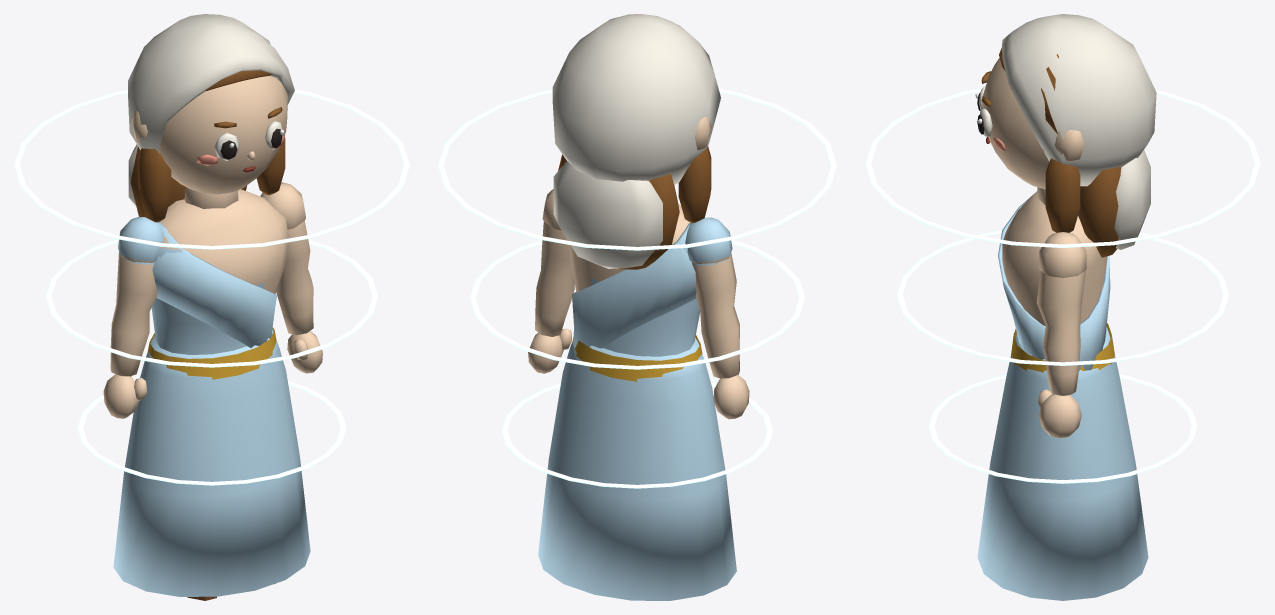
The model's file is echo.glb.
3 views of the same model, side by side, from view 1: azimuth 30°, elevation 25°; view 2: azimuth 150°, elevation 25°; view 3: azimuth 270°, elevation 25° (orthographic).
Parts seen in each view (by area): view 1: huefte, rumpf, kopfschmuck, kopf, armL, armR, haare, vfx_ring_2, vfx_ring_1, vfx_ring_0, augeL; view 2: huefte, kopfschmuck, rumpf, armL, armR, vfx_ring_2, haare, vfx_ring_1, vfx_ring_0; view 3: huefte, kopfschmuck, rumpf, armR, haare, kopf, vfx_ring_2, vfx_ring_1, vfx_ring_0.
Part boxes in pixels (<box>): huefte: <box>113,329,310,596</box>; rumpf: <box>147,189,288,379</box>; kopfschmuck: <box>128,14,294,205</box>; kopf: <box>131,76,287,208</box>; armL: <box>103,217,163,418</box>; armR: <box>260,182,322,373</box>; haare: <box>130,70,285,222</box>; vfx_ring_2: <box>14,89,409,249</box>; vfx_ring_1: <box>46,239,377,367</box>; vfx_ring_0: <box>77,381,346,485</box>; augeL: <box>214,133,239,160</box>; huefte: <box>538,337,736,600</box>; kopfschmuck: <box>552,14,720,268</box>; rumpf: <box>569,204,702,381</box>; armL: <box>685,217,749,419</box>; armR: <box>528,189,574,373</box>; vfx_ring_2: <box>438,89,836,250</box>; haare: <box>558,146,711,269</box>; vfx_ring_1: <box>470,240,804,369</box>; vfx_ring_0: <box>501,382,773,488</box>; huefte: <box>977,327,1148,600</box>; kopfschmuck: <box>1002,14,1156,249</box>; rumpf: <box>998,191,1114,372</box>; armR: <box>1036,232,1086,438</box>; haare: <box>999,47,1121,257</box>; kopf: <box>982,58,1084,205</box>; vfx_ring_2: <box>865,87,1260,247</box>; vfx_ring_1: <box>897,230,1228,365</box>; vfx_ring_0: <box>928,374,1197,483</box>.
Bounding box in the file's own units: 1.5 × 2.3 × 1.5.
